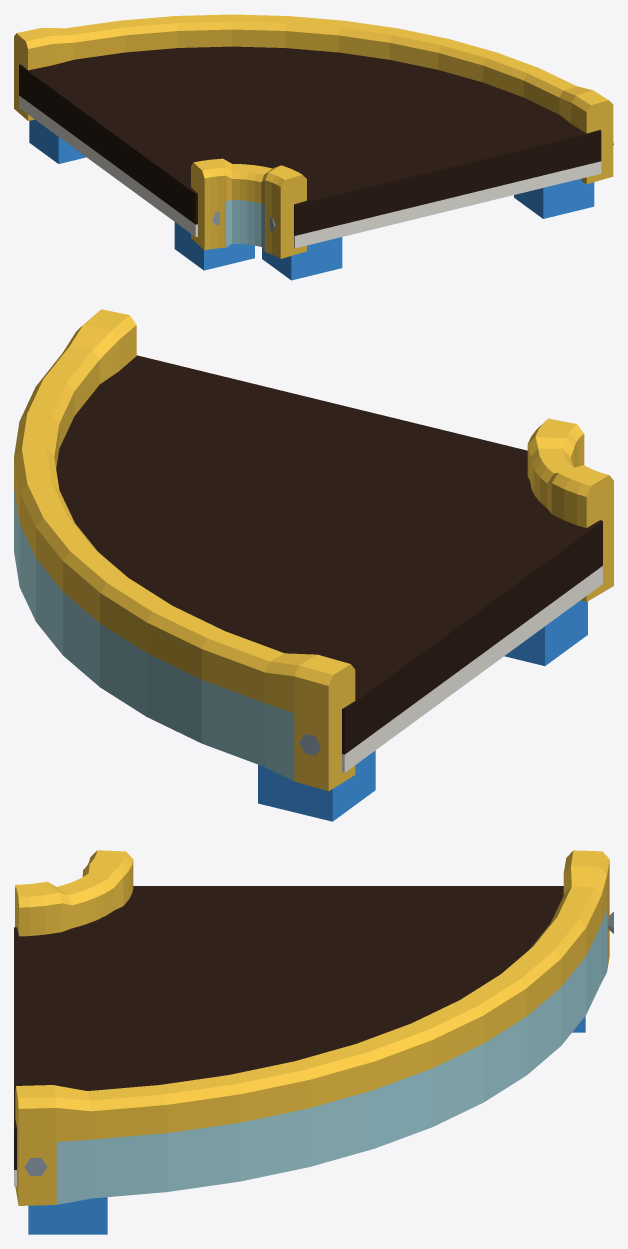
The model's file is TurnLeft.glb.
3 views of the same model, one above another, from view 1: azimuth 30°, elevation 25°; view 2: azimuth 150°, elevation 25°; view 3: azimuth 270°, elevation 25° (orthographic). The views are drawn at different scales.
Visible parts, largest first — view 1: TurnLeft; view 2: TurnLeft; view 3: TurnLeft.
Part boxes in pixels (left/top/right/bottom): TurnLeft: left=14, top=14, right=613, bottom=280; TurnLeft: left=14, top=309, right=613, bottom=821; TurnLeft: left=14, top=850, right=613, bottom=1234.
Size of the model in its own units: 0.9948 by 0.2626 by 0.9948.
Materials: 1 (1 with a texture image).
